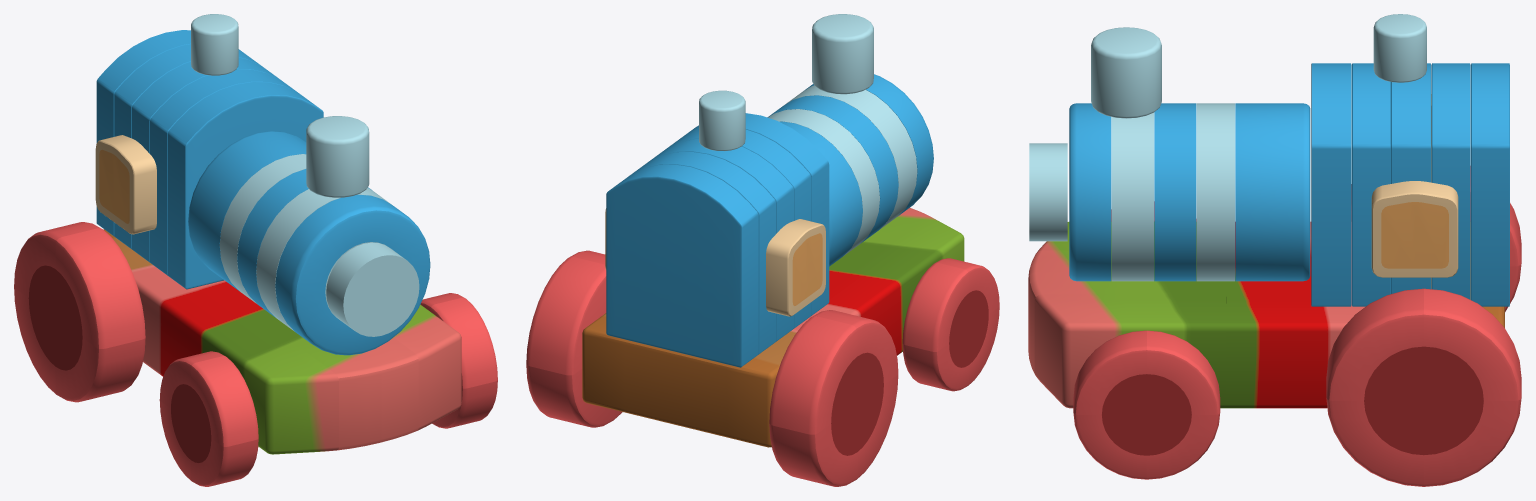
Rendered from level_19.fbx.
The picture shows the model from 3 angles, left to right: view 1: azimuth 30°, elevation 25°; view 2: azimuth 150°, elevation 25°; view 3: azimuth 270°, elevation 25°; orthographic projection. The views are drawn at different scales.
Parts seen in each view (by area): view 1: Cylinder.004, Cube.003, Cube.005, Cylinder.011, Cylinder.023, Cylinder, Cube.009, Cube.012, Cylinder.012, Cube.013, Cylinder.002, Cylinder.019 (+20 smaller); view 2: Cube.025, Cube.007, Cylinder.010, Cylinder.007, Cube.012, Cylinder.009, Cylinder.002, Cylinder.018, Cube.024, Cylinder.022, Cylinder, Cube.003 (+16 smaller); view 3: Cylinder, Cube.018, Cube.003, Cube.025, Cylinder.006, Cylinder.007, Cube.004, Cylinder.022, Cylinder.004, Cube.022, Cylinder.003, Cube.013 (+18 smaller).
Boxes of the visible parts, bbox=[...] form: Cylinder.004: bbox=[275, 194, 430, 355]; Cube.003: bbox=[167, 82, 323, 289]; Cube.005: bbox=[240, 346, 338, 454]; Cylinder.011: bbox=[55, 228, 145, 348]; Cylinder.023: bbox=[326, 242, 419, 336]; Cylinder: bbox=[188, 131, 306, 291]; Cube.009: bbox=[150, 280, 264, 376]; Cube.012: bbox=[95, 135, 156, 234]; Cylinder.012: bbox=[55, 318, 145, 402]; Cube.013: bbox=[393, 313, 461, 430]; Cylinder.002: bbox=[306, 116, 369, 197]; Cylinder.019: bbox=[191, 356, 258, 446]; Cube.025: bbox=[606, 164, 758, 367]; Cube.007: bbox=[582, 313, 787, 447]; Cylinder.010: bbox=[769, 316, 857, 434]; Cylinder.007: bbox=[526, 257, 606, 375]; Cube.012: bbox=[766, 219, 825, 316]; Cylinder.009: bbox=[769, 404, 857, 486]; Cylinder.002: bbox=[812, 14, 873, 94]; Cylinder.018: bbox=[902, 262, 968, 351]; Cube.024: bbox=[627, 152, 775, 354]; Cylinder.022: bbox=[767, 95, 898, 242]; Cylinder: bbox=[779, 121, 862, 266]; Cube.003: bbox=[679, 113, 829, 315]; Cylinder: bbox=[1235, 103, 1310, 281]; Cube.018: bbox=[1226, 272, 1326, 408]; Cube.003: bbox=[1311, 63, 1351, 306]; Cube.025: bbox=[1471, 63, 1509, 306]; Cylinder.006: bbox=[1326, 288, 1423, 400]; Cylinder.007: bbox=[1424, 288, 1521, 400]; Cube.004: bbox=[1371, 181, 1458, 277]; Cylinder.022: bbox=[1154, 103, 1196, 281]; Cylinder.004: bbox=[1069, 103, 1111, 281]; Cube.022: bbox=[1352, 63, 1390, 306]; Cylinder.003: bbox=[1111, 112, 1153, 281]; Cube.013: bbox=[1034, 294, 1125, 408].
Size of the model in its own units: 8.76 by 9.8 by 11.37.
